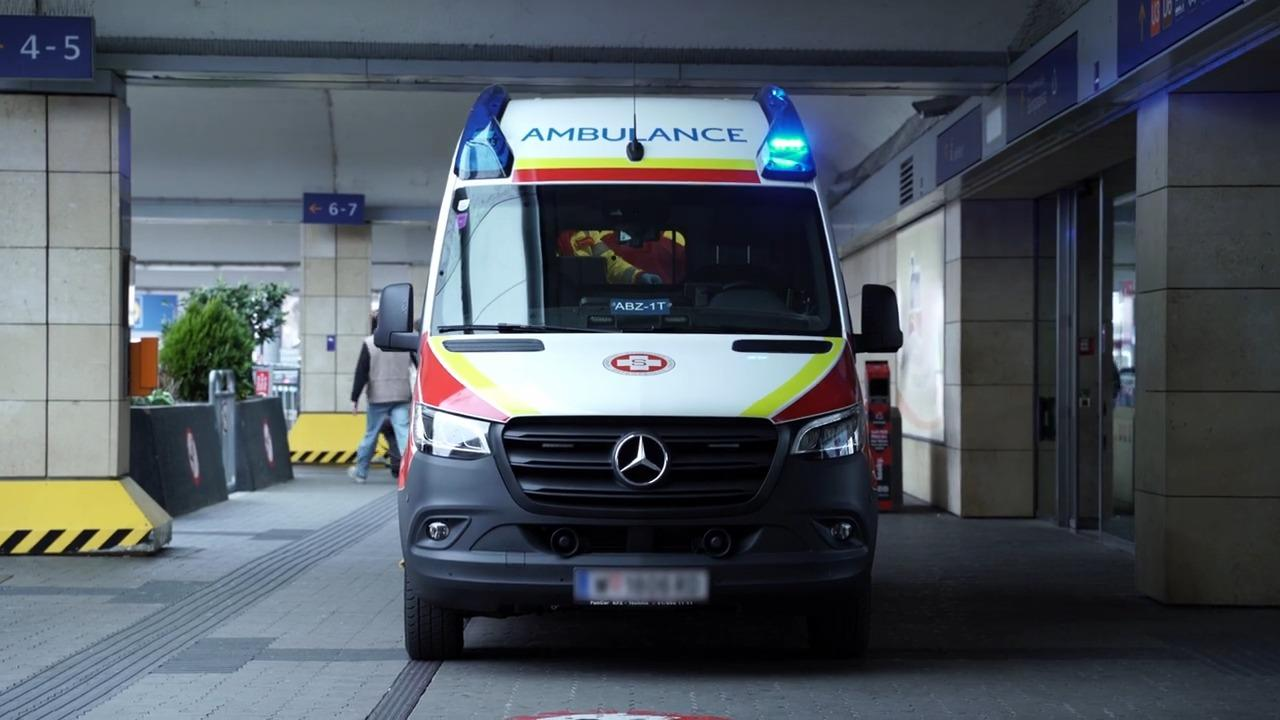car: (376, 80, 903, 663)
